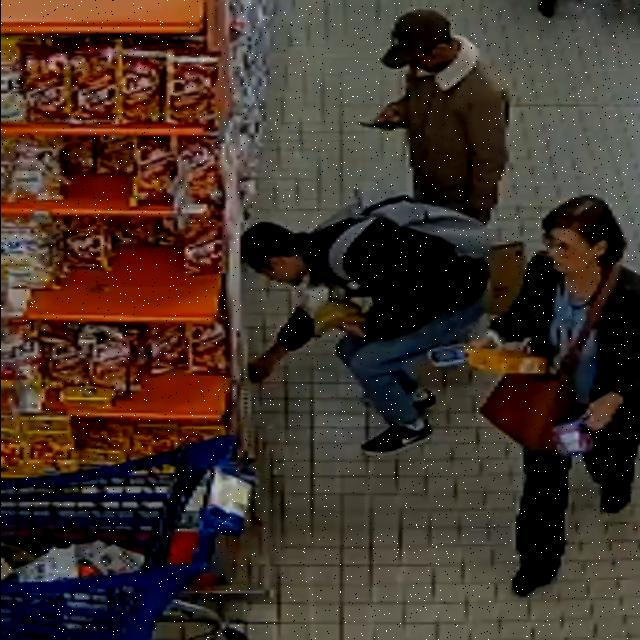article: (465, 348, 547, 374), (312, 301, 367, 338), (552, 419, 597, 459), (305, 281, 363, 310)
bags: (481, 267, 619, 450), (317, 192, 492, 281)
hands: (584, 392, 624, 431), (249, 345, 288, 383), (373, 101, 406, 130), (468, 331, 502, 349), (467, 208, 492, 224), (340, 324, 366, 338)
person: (242, 218, 487, 455), (377, 9, 508, 222), (571, 269, 639, 512)
